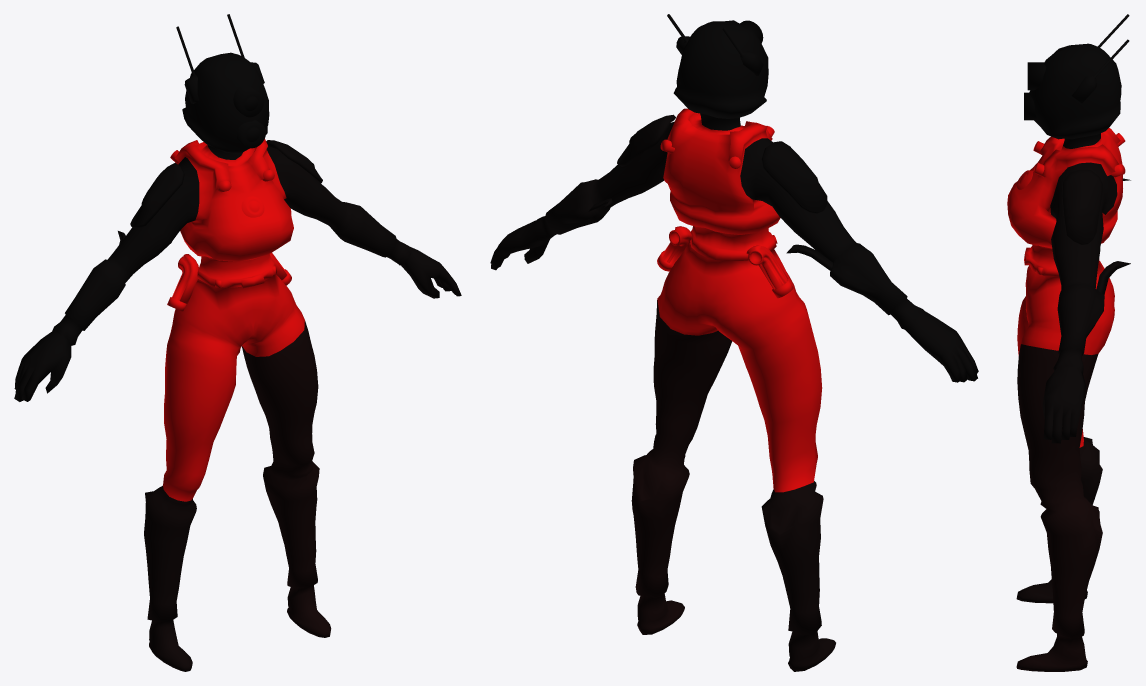
File: huntressProto.glb
The picture shows the model from 3 angles, left to right: view 1: azimuth 30°, elevation 25°; view 2: azimuth 150°, elevation 25°; view 3: azimuth 270°, elevation 25°; orthographic projection. The views are drawn at different scales.
Parts seen in each view (by area): view 1: HuntressMesh.001; view 2: HuntressMesh.001; view 3: HuntressMesh.001.
Boxes of the visible parts, x1,y1,x2,y2 form: HuntressMesh.001: (14,14,461,671); HuntressMesh.001: (490,14,978,671); HuntressMesh.001: (1007,14,1130,671).
Bounding box in the file's own units: 1.61 × 2.06 × 0.3824.
